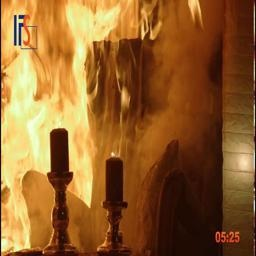fire: (2, 2, 127, 256)
